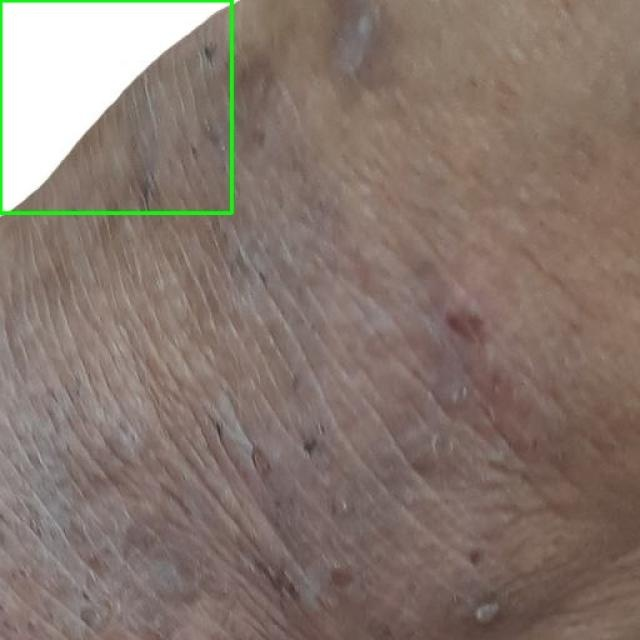Contact Dermatitis: (0, 0, 231, 212)
